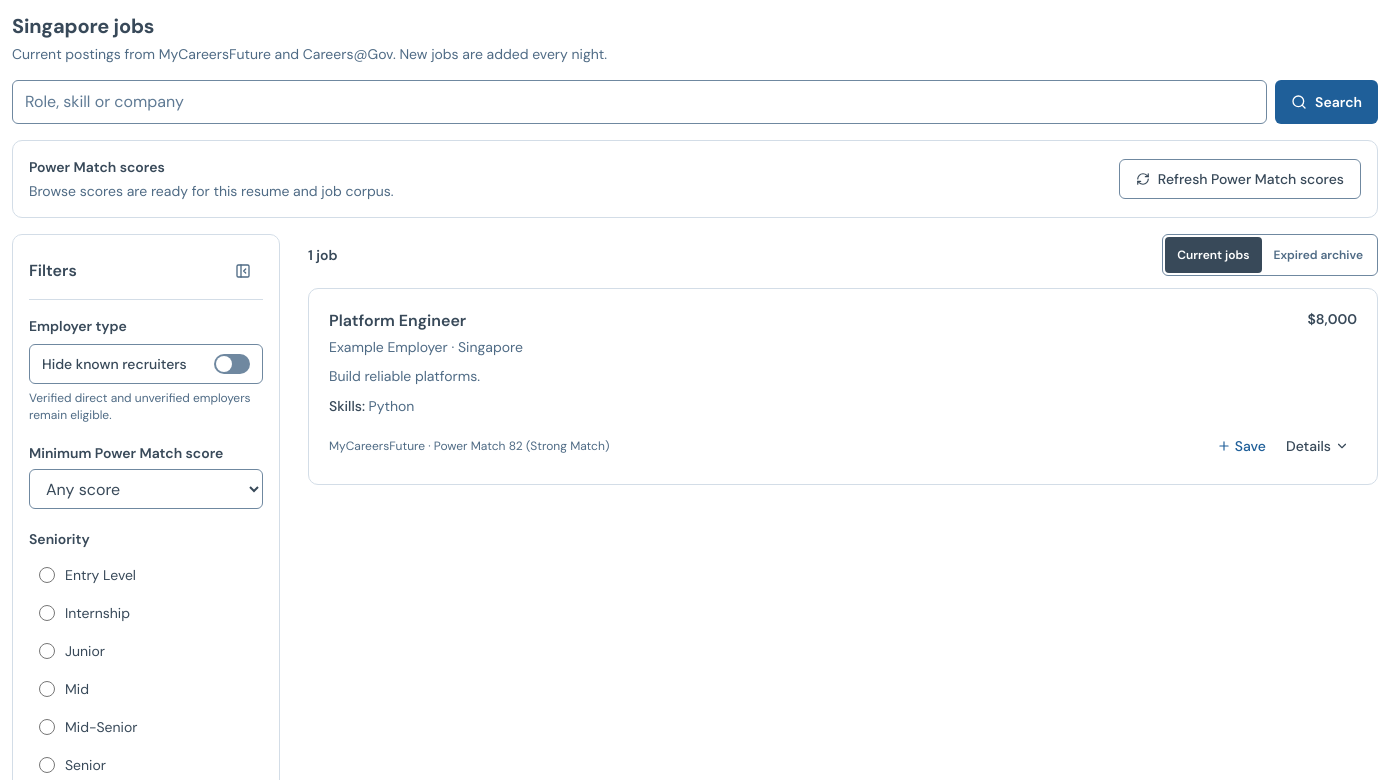
it: ScraperTab persisted Power Match scores › recovers from a typed stale snapshot without repeating the score threshold
Select "55+ · Good" in the dropdown named "Minimum Power Match score". click: {"x": 146, "y": 489}
box: [29,469,263,509]
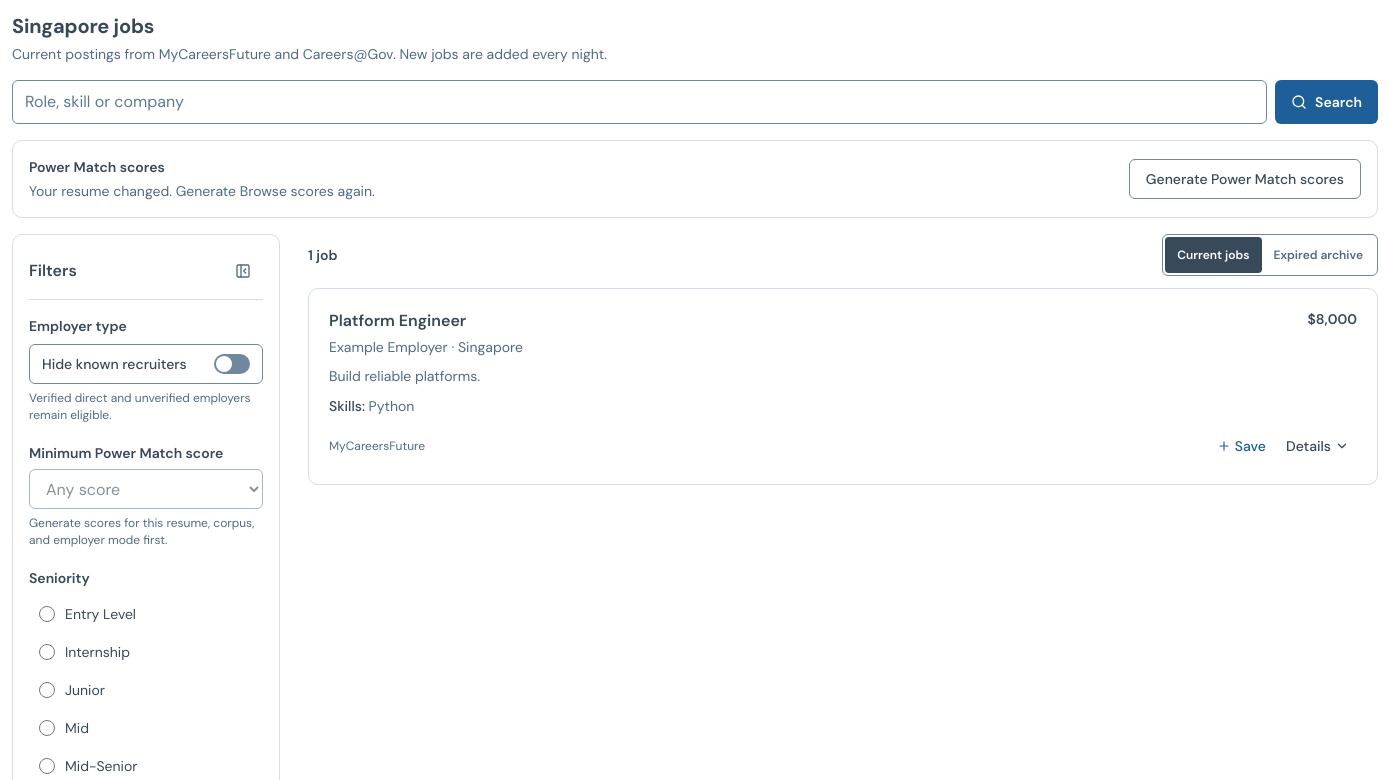
Expected: the dropdown named "Minimum Power Match score" is disabled, [29,469,263,509]
Expected: the text "Your resume changed. Generate Browse scores again." is shown, [29,181,375,201]
Expected: the text "Generate Power Match scores" is shown, [1129,159,1361,199]
